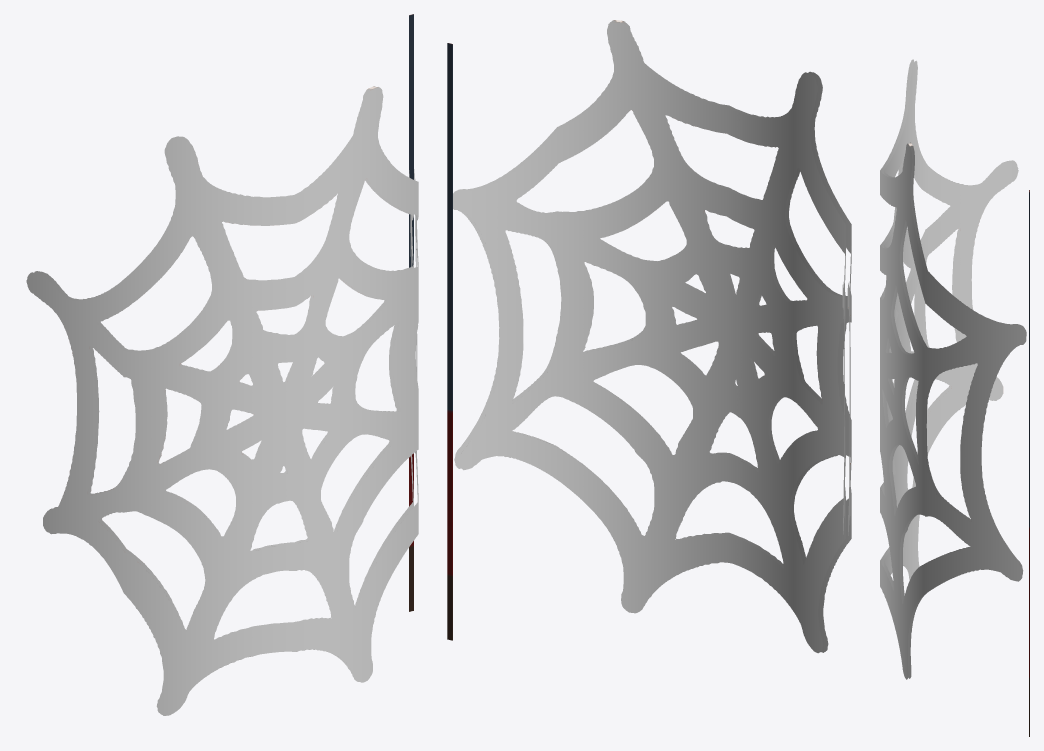
File: Spider_web_1.FBX
3 views of the same model, side by side, from view 1: azimuth 30°, elevation 25°; view 2: azimuth 150°, elevation 25°; view 3: azimuth 270°, elevation 25° (orthographic). The views are drawn at different scales.
Parts seen in each view (by area): view 1: Spider_web; view 2: Spider_web; view 3: Spider_web.
Boxes of the visible parts, bbox=[...] form: Spider_web: bbox=[26, 14, 418, 715]; Spider_web: bbox=[447, 20, 851, 653]; Spider_web: bbox=[880, 59, 1029, 736].
Size of the model in its own units: 0.304 by 0.4333 by 0.108.
